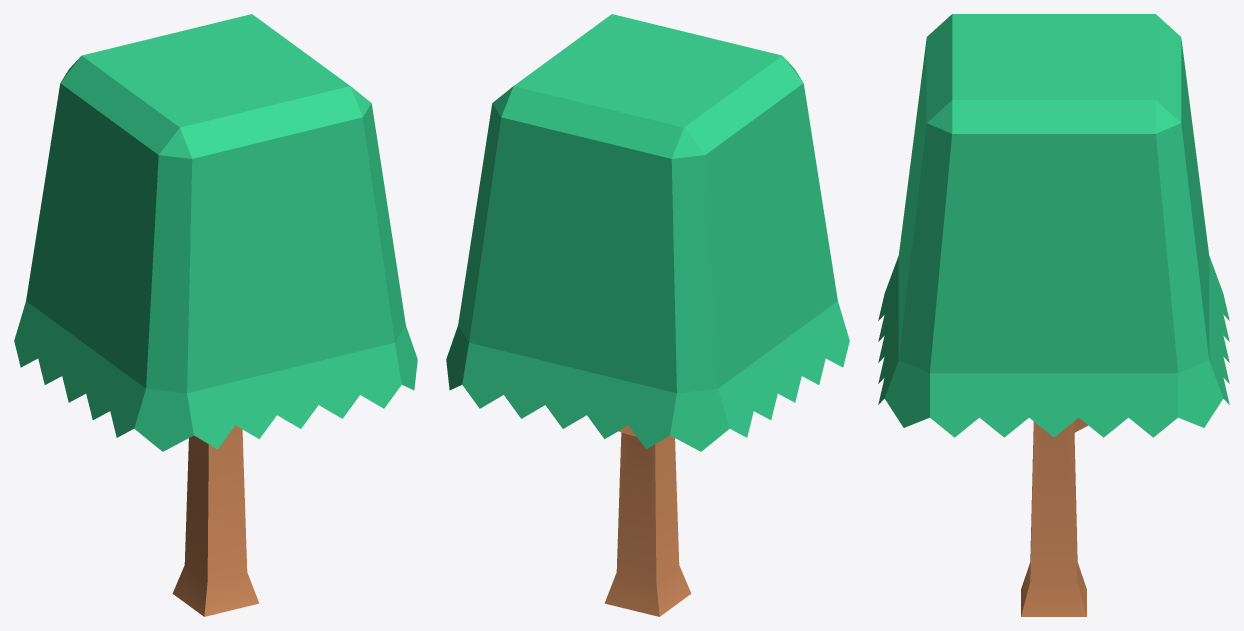
File: tree.dae
The picture shows the model from 3 angles, left to right: view 1: azimuth 30°, elevation 25°; view 2: azimuth 150°, elevation 25°; view 3: azimuth 270°, elevation 25°; orthographic projection. The views are drawn at different scales.
Visible parts, largest first — view 1: tree; view 2: tree; view 3: tree.
Boxes of the visible parts, left/top/right/bottom form: tree: left=14, top=14, right=417, bottom=616; tree: left=446, top=14, right=849, bottom=616; tree: left=878, top=14, right=1229, bottom=616.
Bounding box in the file's own units: 1.13 × 1.94 × 1.13.
